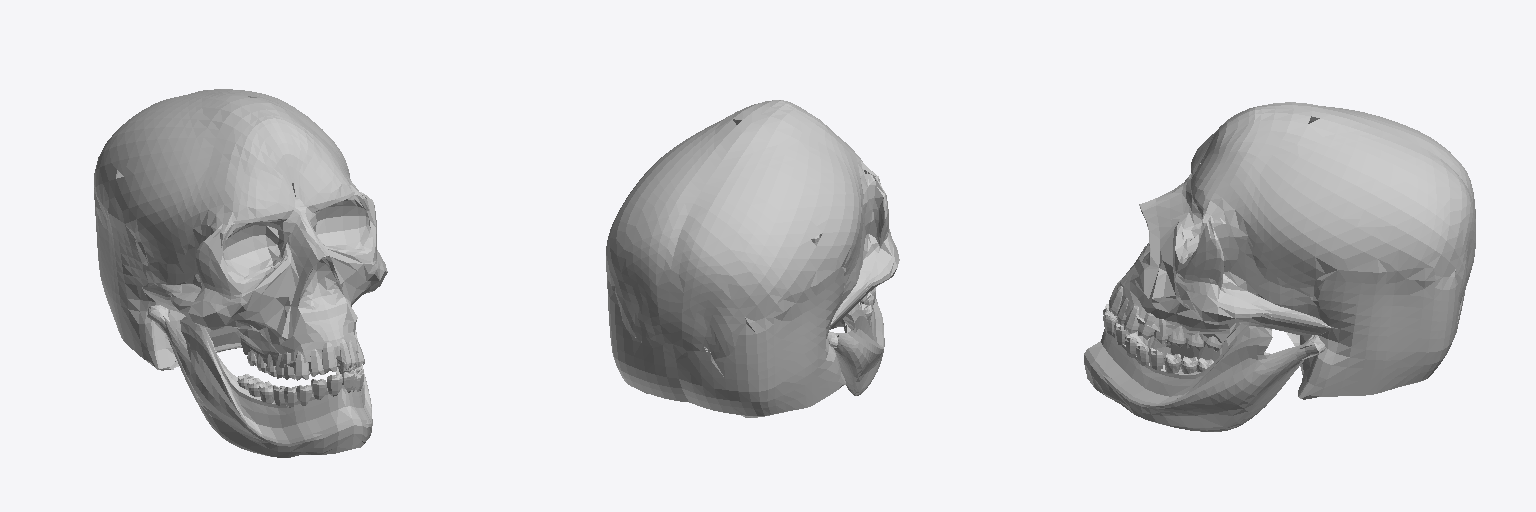
The model's file is hellskull.obj.
3 renders of one model, left to right at view 1: azimuth 30°, elevation 25°; view 2: azimuth 150°, elevation 25°; view 3: azimuth 270°, elevation 25°, orthographic.
Visible parts, largest first — view 1: Obj_Poly_3 Prt_skull_head_jaw, Obj_Poly_4 Prt_skull_head_jaw, Obj_Poly_29 Prt_skull_bottom_teeth, Obj_Poly_31 Prt_skull_top_teeth, Obj_Poly_30 Prt_skull_top_teeth; view 2: Obj_Poly_3 Prt_skull_head_jaw, Obj_Poly_4 Prt_skull_head_jaw; view 3: Obj_Poly_3 Prt_skull_head_jaw, Obj_Poly_4 Prt_skull_head_jaw, Obj_Poly_30 Prt_skull_top_teeth, Obj_Poly_28 Prt_skull_bottom_teeth.
Part boxes in pixels (x1,y1,x2,y2): Obj_Poly_3 Prt_skull_head_jaw: (94, 89, 387, 370); Obj_Poly_4 Prt_skull_head_jaw: (147, 305, 372, 457); Obj_Poly_29 Prt_skull_bottom_teeth: (237, 373, 342, 407); Obj_Poly_31 Prt_skull_top_teeth: (247, 342, 336, 380); Obj_Poly_30 Prt_skull_top_teeth: (336, 337, 364, 368); Obj_Poly_3 Prt_skull_head_jaw: (606, 100, 899, 417); Obj_Poly_4 Prt_skull_head_jaw: (828, 299, 884, 395); Obj_Poly_3 Prt_skull_head_jaw: (1117, 102, 1475, 399); Obj_Poly_4 Prt_skull_head_jaw: (1084, 324, 1325, 431); Obj_Poly_30 Prt_skull_top_teeth: (1109, 286, 1223, 351); Obj_Poly_28 Prt_skull_bottom_teeth: (1103, 310, 1213, 373).
Size of the model in its own units: 33.85 by 46.43 by 56.26.